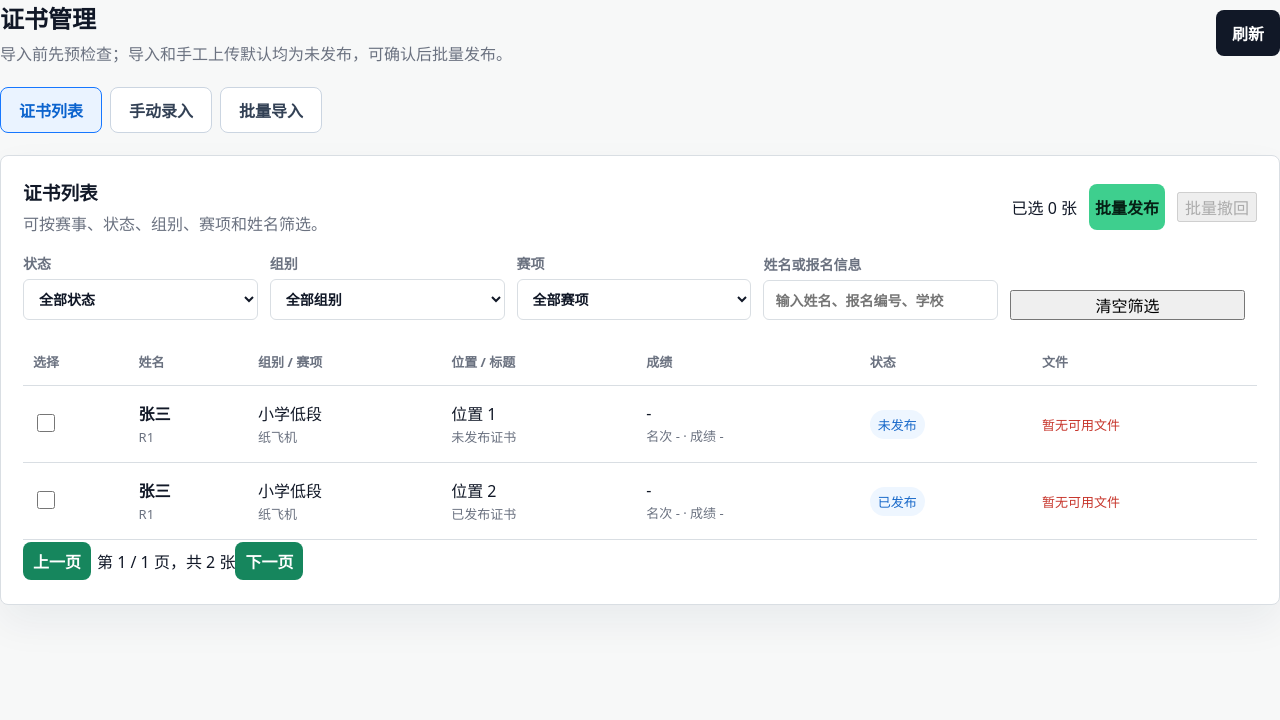
Test: CertificateManagementPage final fixes › 按状态锁定批量选择：草稿可发布、已发布可撤回，不能混选
The image size is (1280, 720).
Click the 1st checkbox. click: (46, 423)
box: [37,403,55,443]
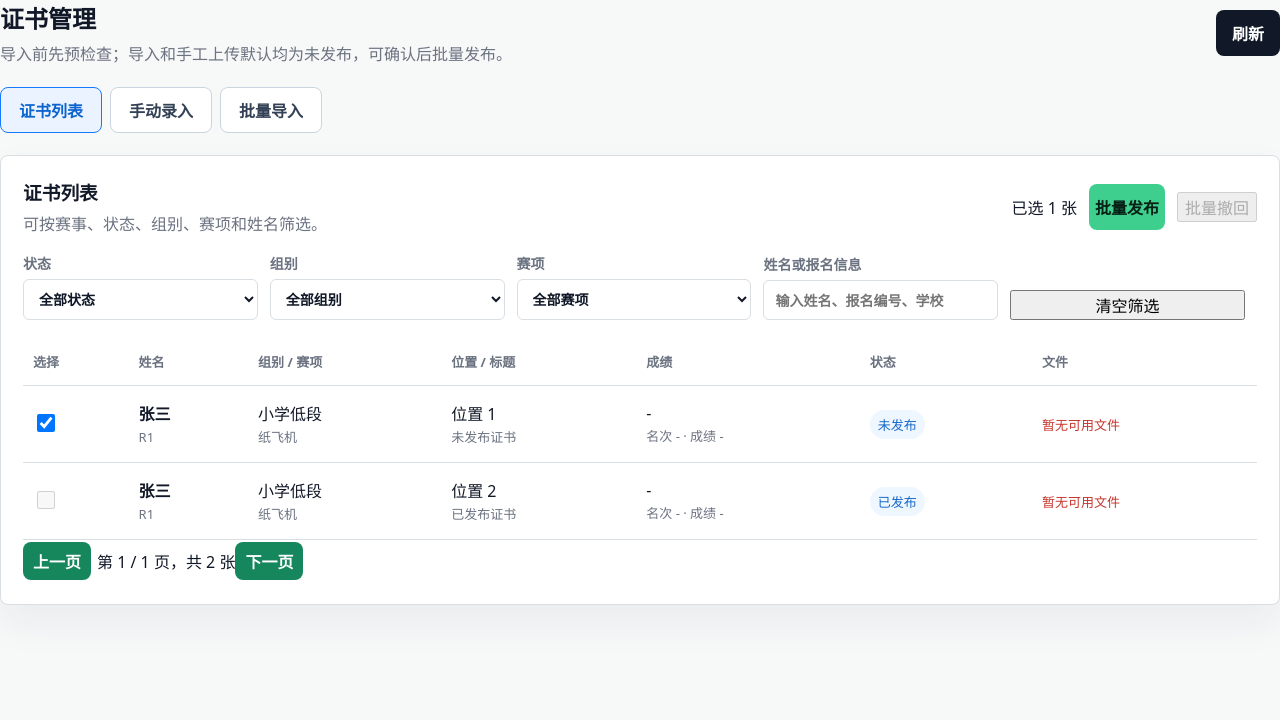
Expected: the button "批量发布" is shown, [1089,184,1165,230]
Click the 1st checkbox. click: (46, 423)
box: [37,403,55,443]
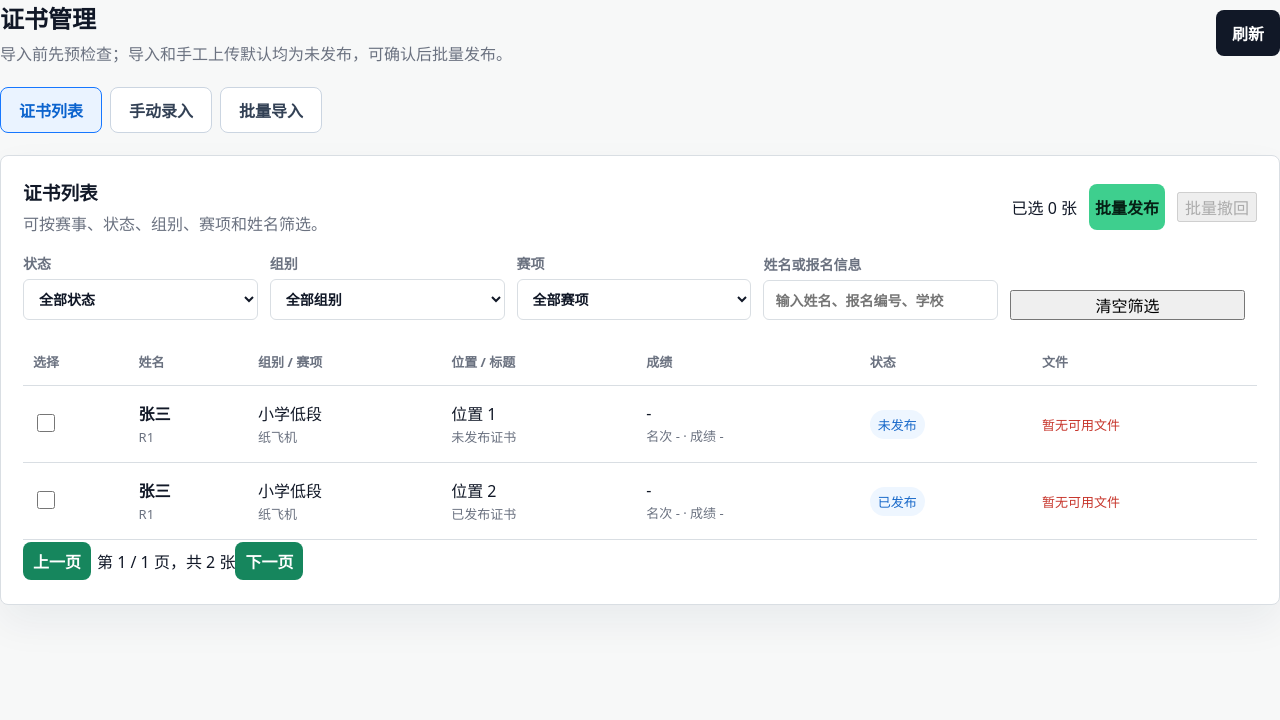
Click the 2nd checkbox. click: (46, 500)
box: [37,480,55,520]
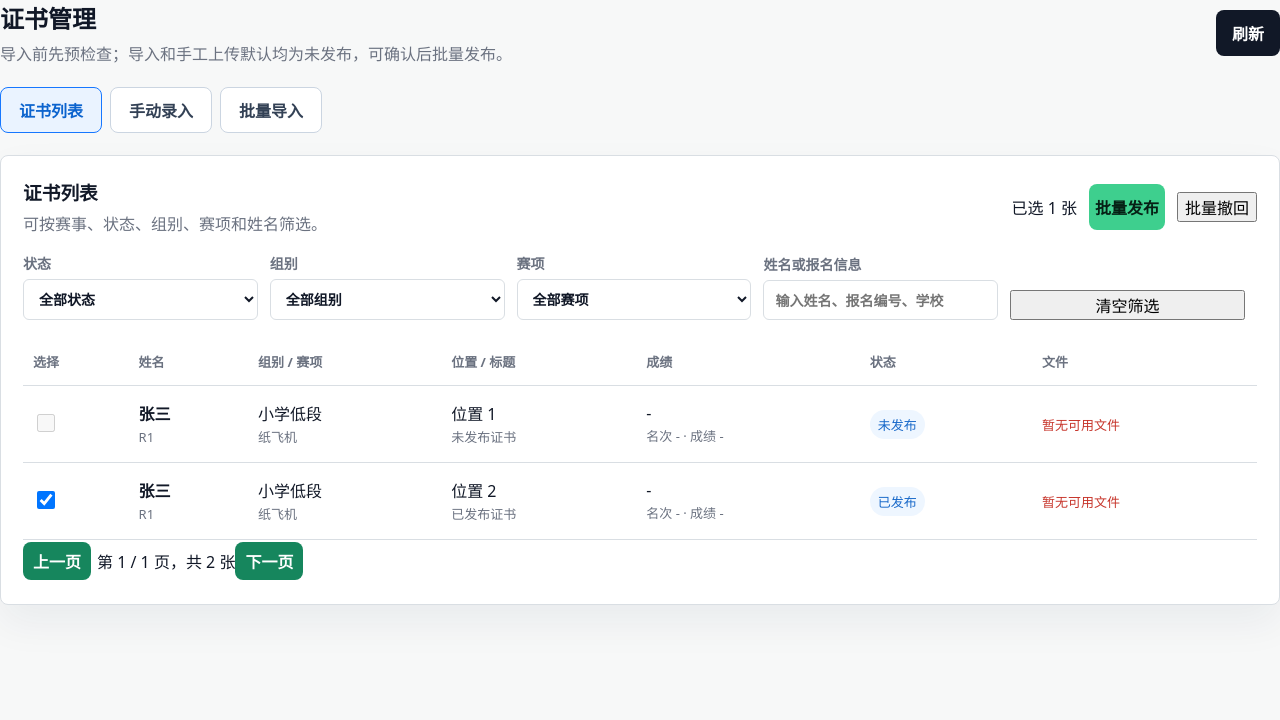
Click the button "批量撤回". click: (1217, 206)
box: [1177,192,1257,222]
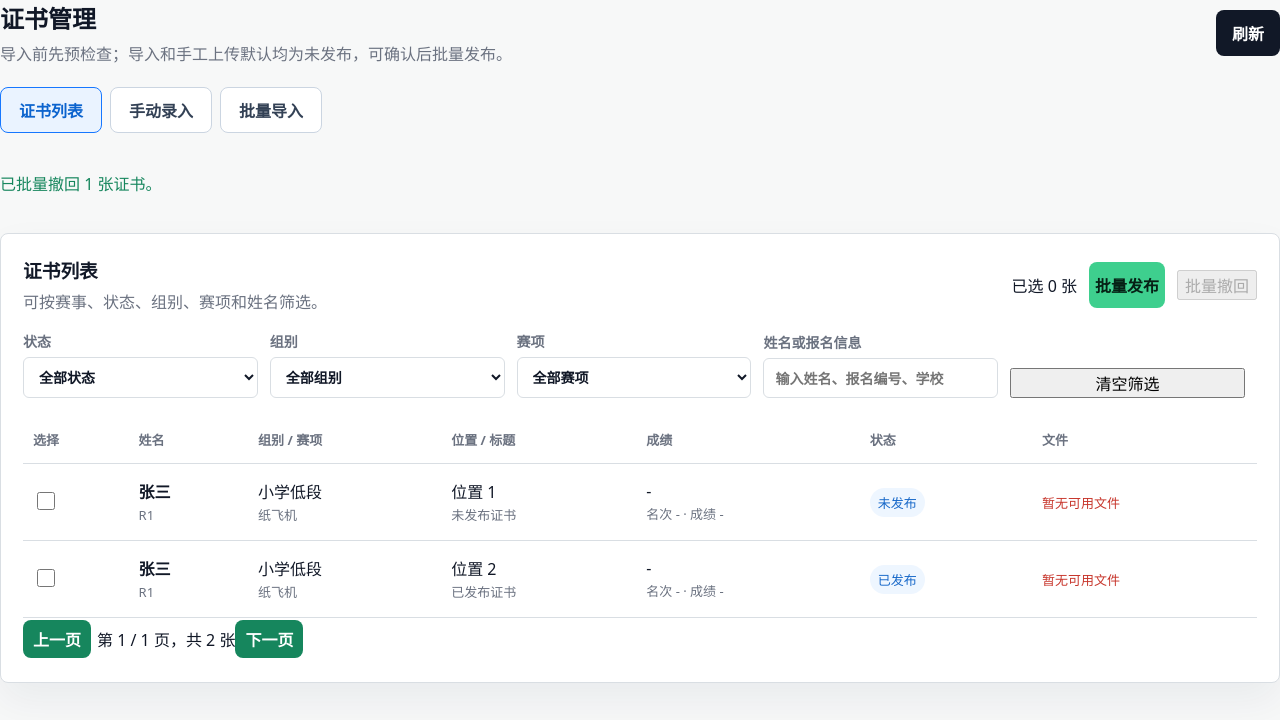
Now the element with class "bulk-actions" shows "已选 0 张", box [1012,274,1077,296]
